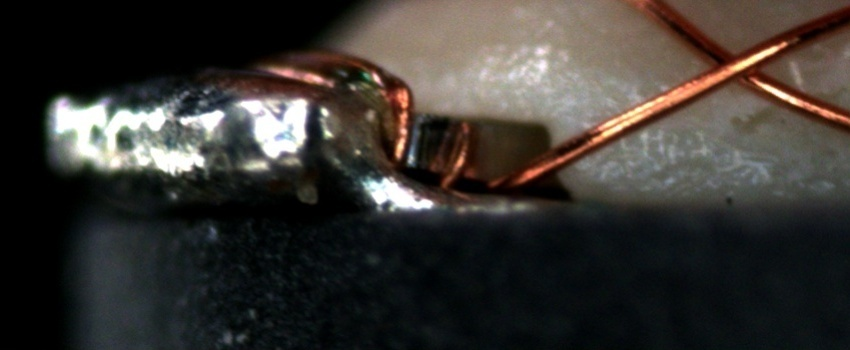CL: (694, 29, 787, 96)
DL: (578, 99, 700, 147)
TE: (242, 45, 479, 192)
